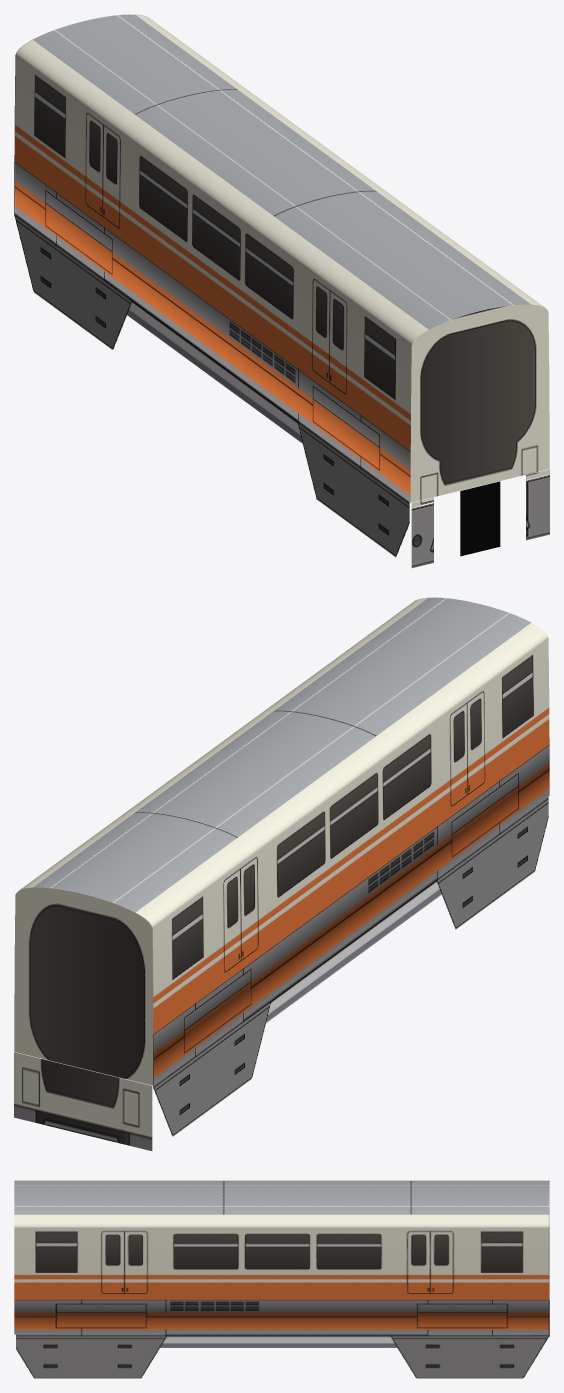
Rendered from car2.glb.
The picture shows the model from 3 angles, top to bottom: view 1: azimuth 30°, elevation 25°; view 2: azimuth 150°, elevation 25°; view 3: azimuth 270°, elevation 25°; orthographic projection. The views are drawn at different scales.
Visible parts, largest first — view 1: kitakyumono-1000-car2; view 2: kitakyumono-1000-car2; view 3: kitakyumono-1000-car2.
Part boxes in pixels (x1,y1,x2,y2): kitakyumono-1000-car2: (14,14,549,567); kitakyumono-1000-car2: (14,597,549,1150); kitakyumono-1000-car2: (14,1180,549,1378).
Size of the model in its own units: 2.98 by 4.92 by 14.75.
Materials: 8 (7 with a texture image).
